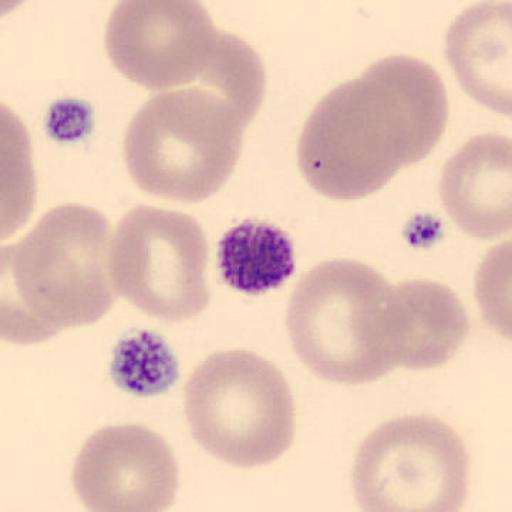Platelet: (213, 215, 299, 297), (104, 326, 182, 399), (40, 92, 99, 148)
RBC: (282, 256, 413, 389), (295, 76, 412, 205), (121, 86, 246, 205), (181, 346, 298, 472), (8, 200, 114, 332), (105, 203, 212, 326), (349, 413, 472, 511), (155, 24, 267, 130), (358, 52, 450, 168), (102, 0, 216, 92), (70, 423, 182, 512), (375, 276, 471, 372), (438, 130, 512, 241), (443, 0, 512, 118), (1, 250, 70, 347), (0, 101, 38, 246), (472, 234, 512, 344), (0, 0, 38, 22)
